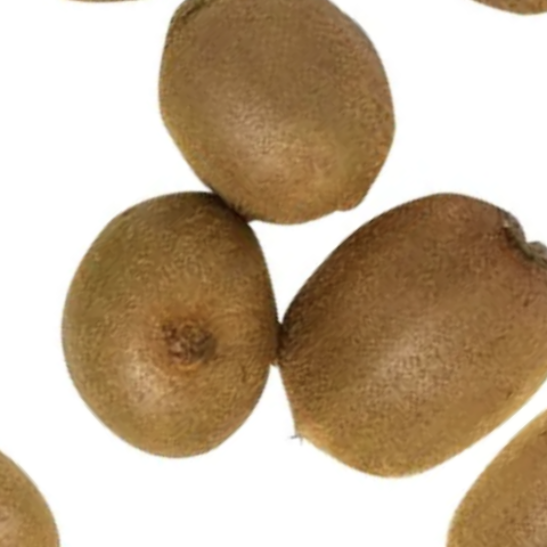kiwi: (195, 114, 547, 547), (0, 120, 375, 522), (106, 0, 479, 283)
